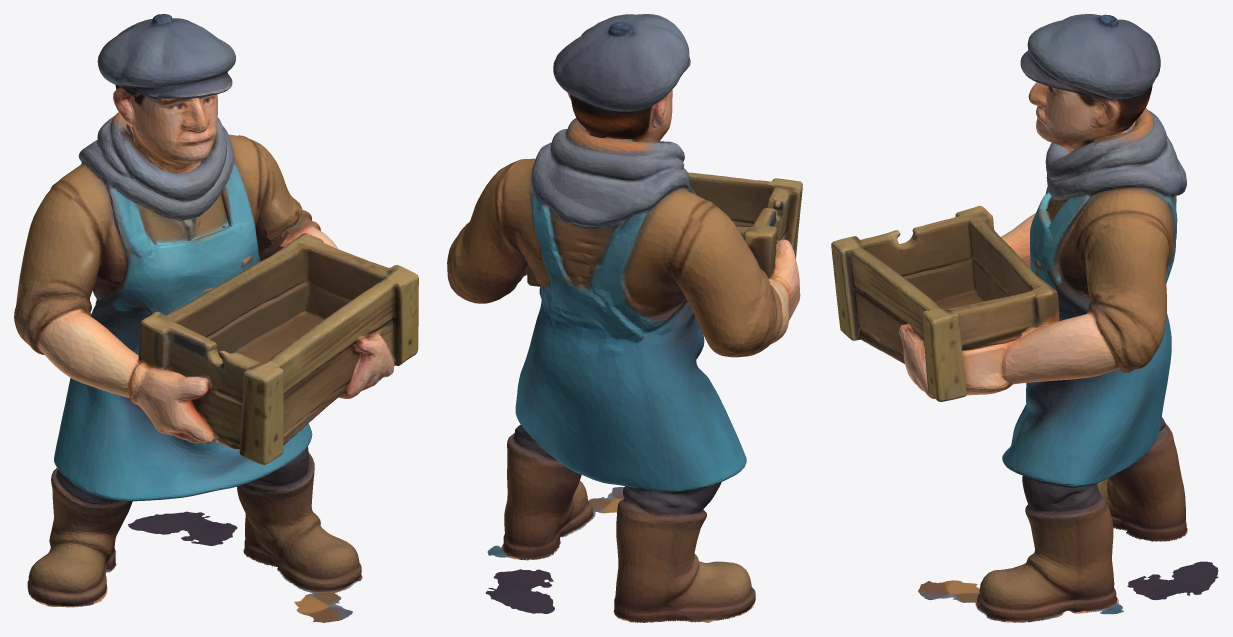
File: civilian-b.glb
3 renders of one model, left to right at view 1: azimuth 30°, elevation 25°; view 2: azimuth 150°, elevation 25°; view 3: azimuth 270°, elevation 25°, orthographic. The views are drawn at different scales.
Parts seen in each view (by area): view 1: figure; view 2: figure; view 3: figure.
Part boxes in pixels (x1,y1,x2,y2): figure: [14, 14, 418, 622]; figure: [447, 14, 802, 622]; figure: [831, 14, 1218, 622].
Bounding box in the file's own units: 1.02 × 1.7 × 1.11.
1 material, 1 textured.
